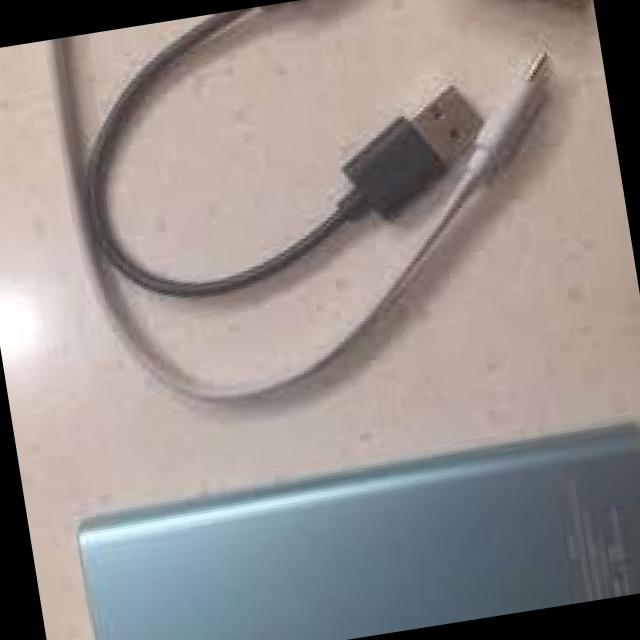power_bank: (76, 420, 640, 640)
